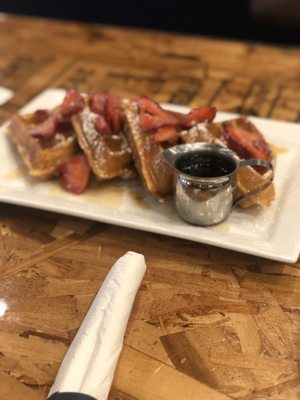pizza: (164, 143, 239, 227)
sandwich: (46, 250, 147, 400)
sushi: (163, 143, 239, 225)
